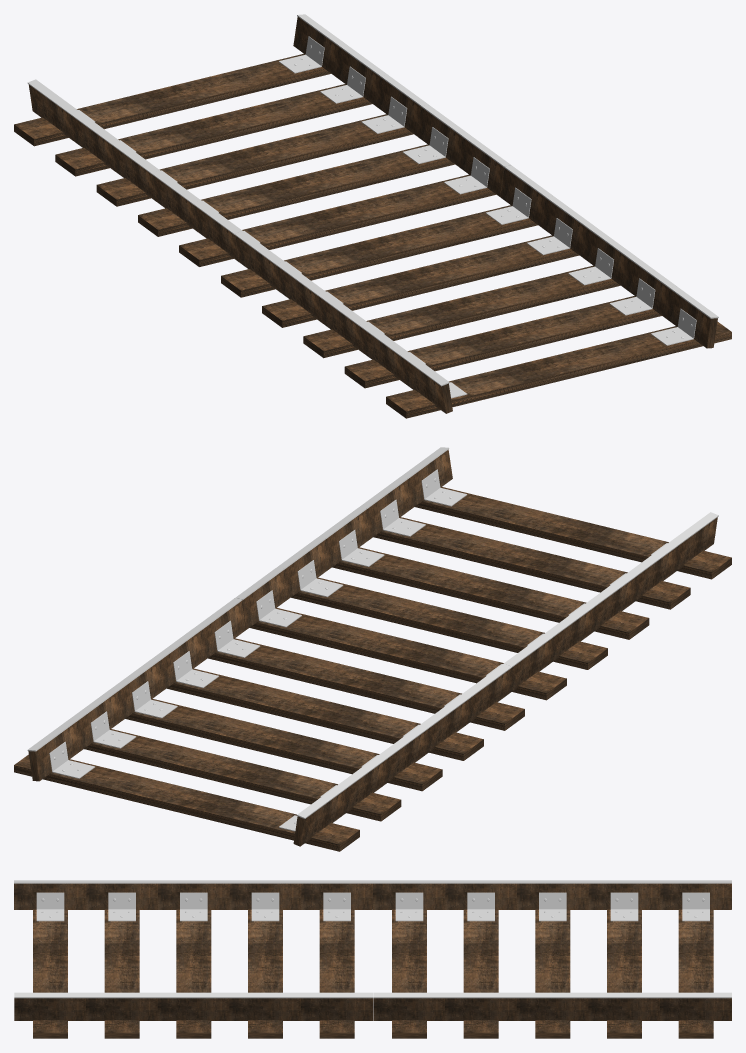
The model's file is Rails.fbx.
3 views of the same model, one above another, from view 1: azimuth 30°, elevation 25°; view 2: azimuth 150°, elevation 25°; view 3: azimuth 270°, elevation 25° (orthographic). The views are drawn at different scales.
Visible parts, largest first — view 1: Cube.005; view 2: Cube.005; view 3: Cube.005.
Part boxes in pixels (x1,y1,x2,y2): Cube.005: [14, 14, 731, 418]; Cube.005: [14, 447, 731, 851]; Cube.005: [14, 880, 731, 1038].
Size of the model in its own units: 475 by 52.04 by 1044.
2 materials, 1 textured.
